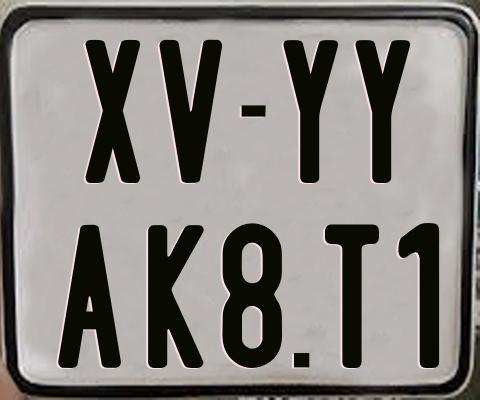1: (397, 222, 442, 370)
8: (221, 220, 286, 371)
A: (57, 222, 126, 371)
K: (148, 222, 206, 367)
T: (322, 222, 378, 372)
V: (157, 40, 226, 186)
X: (85, 40, 146, 183)
Y: (355, 38, 412, 182), (281, 40, 336, 185)
